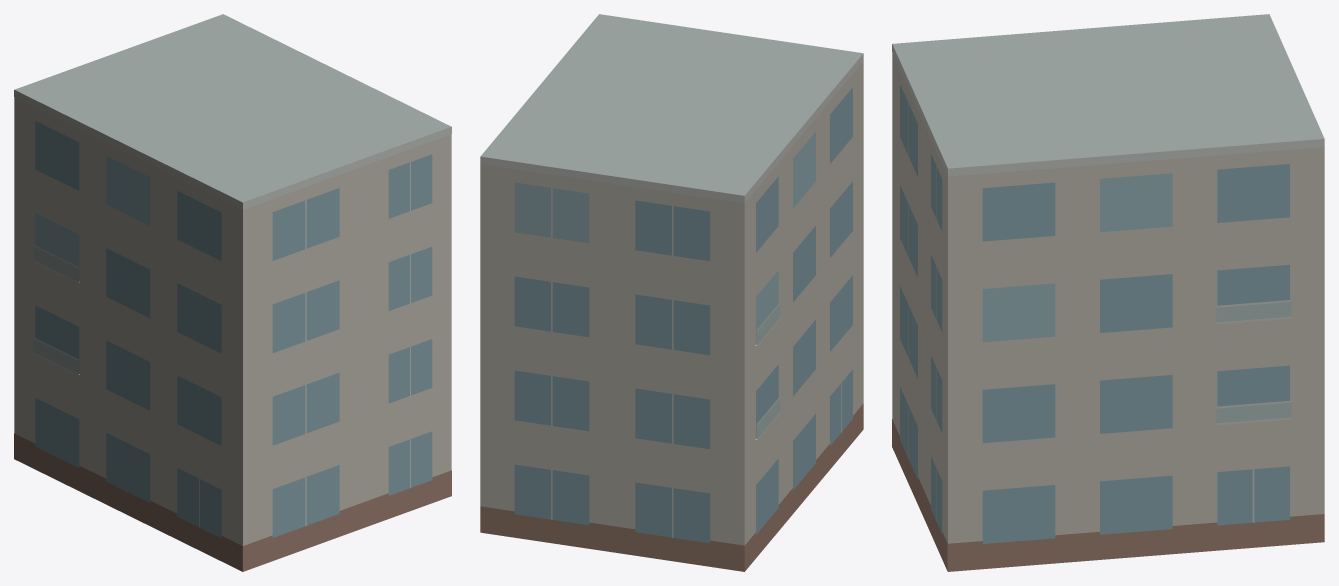
File: residential-de9102d1-28f6-43a7-9e0d-eca7fcda40c0.glb
The picture shows the model from 3 angles, left to right: view 1: azimuth 30°, elevation 25°; view 2: azimuth 150°, elevation 25°; view 3: azimuth 270°, elevation 25°; orthographic projection. The views are drawn at different scales.
Visible parts, largest first — view 1: residential-de9102d1-28f6-43a7-9e0d-eca7fcda40c0.tmp; view 2: residential-de9102d1-28f6-43a7-9e0d-eca7fcda40c0.tmp; view 3: residential-de9102d1-28f6-43a7-9e0d-eca7fcda40c0.tmp.
Part boxes in pixels (x1,y1,x2,y2): residential-de9102d1-28f6-43a7-9e0d-eca7fcda40c0.tmp: [14, 14, 451, 571]; residential-de9102d1-28f6-43a7-9e0d-eca7fcda40c0.tmp: [480, 14, 863, 571]; residential-de9102d1-28f6-43a7-9e0d-eca7fcda40c0.tmp: [892, 14, 1324, 571].
Bounding box in the file's own units: 10.04 × 12.2 × 11.87.
